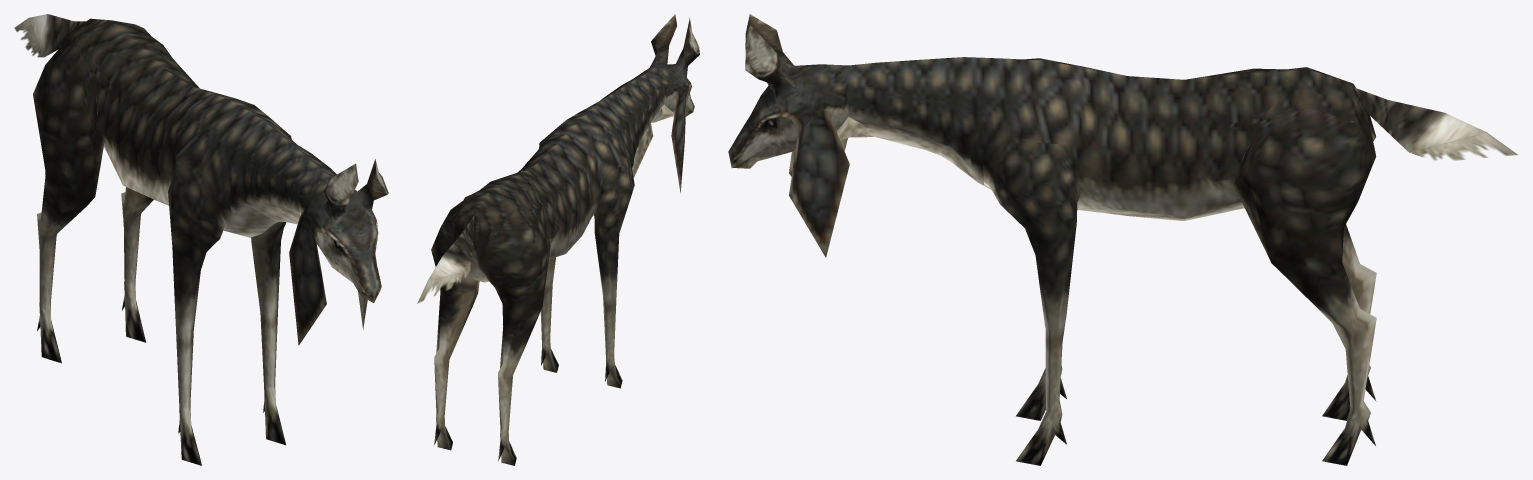
The model's file is kelbi.glb.
The picture shows the model from 3 angles, left to right: view 1: azimuth 30°, elevation 25°; view 2: azimuth 150°, elevation 25°; view 3: azimuth 270°, elevation 25°; orthographic projection. The views are drawn at different scales.
Visible parts, largest first — view 1: em03-0001-5, em03-0001-0, em03-0001-6, em03-0001-7; view 2: em03-0001-5, em03-0001-0, em03-0001-6, em03-0001-7; view 3: em03-0001-5, em03-0001-0, em03-0001-6, em03-0001-7.
Part boxes in pixels (bbox=[...]): em03-0001-5: bbox=[29, 14, 388, 465]; em03-0001-0: bbox=[62, 18, 336, 237]; em03-0001-6: bbox=[62, 30, 300, 228]; em03-0001-7: bbox=[14, 18, 43, 57]; em03-0001-5: bbox=[428, 14, 699, 465]; em03-0001-0: bbox=[453, 73, 663, 282]; em03-0001-6: bbox=[452, 96, 656, 274]; em03-0001-7: bbox=[417, 271, 469, 303]; em03-0001-5: bbox=[728, 14, 1486, 465]; em03-0001-0: bbox=[848, 57, 1367, 208]; em03-0001-6: bbox=[848, 68, 1375, 220]; em03-0001-7: bbox=[1410, 132, 1517, 160].
Size of the model in its own units: 44.45 by 122 by 208.
1 material, 1 textured.
